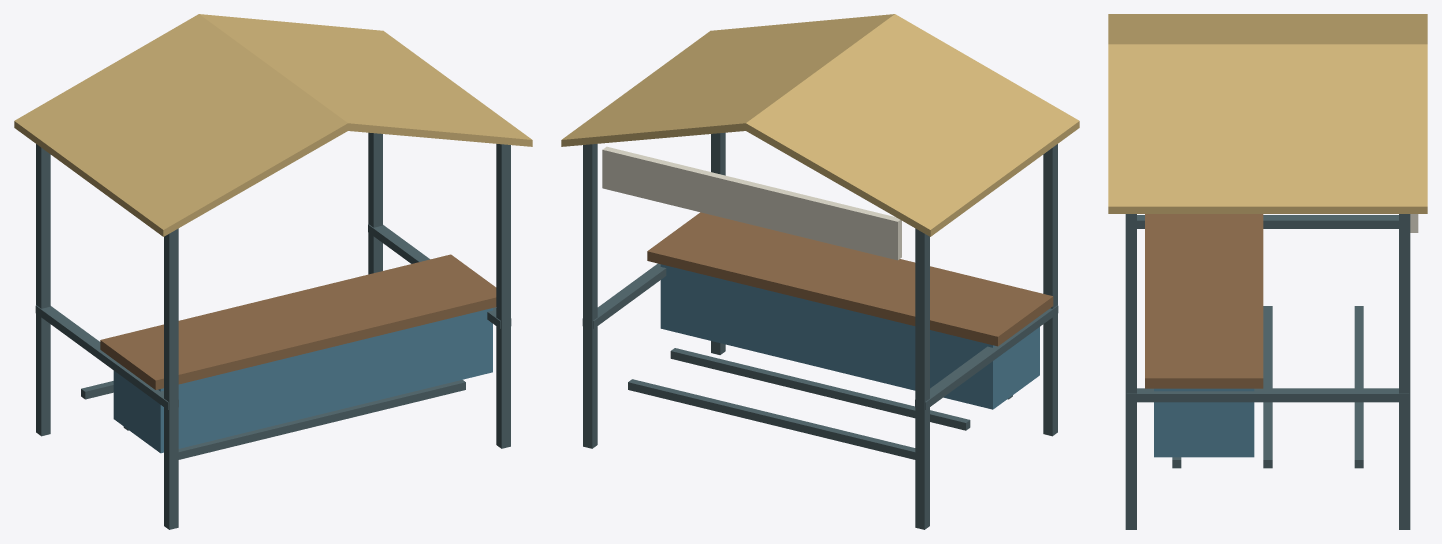
File: KOL_HBR_PROP_11.fbx
3 renders of one model, left to right at view 1: azimuth 30°, elevation 25°; view 2: azimuth 150°, elevation 25°; view 3: azimuth 270°, elevation 25°, orthographic. The views are drawn at different scales.
Visible parts, largest first — view 1: KOL_HBR_PROP_11__Model__Canvas, KOL_HBR_PROP_11__Model__Blue, KOL_HBR_PROP_11__Model__Timber, KOL_HBR_PROP_11__Model__DarkSteel; view 2: KOL_HBR_PROP_11__Model__Canvas, KOL_HBR_PROP_11__Model__DarkSteel, KOL_HBR_PROP_11__Model__Blue, KOL_HBR_PROP_11__Model__Timber, KOL_HBR_PROP_11__Model__White; view 3: KOL_HBR_PROP_11__Model__Canvas, KOL_HBR_PROP_11__Model__Timber, KOL_HBR_PROP_11__Model__DarkSteel, KOL_HBR_PROP_11__Model__Blue.
Boxes of the visible parts, x1,y1,x2,y2 form: KOL_HBR_PROP_11__Model__Canvas: (14,14,532,236); KOL_HBR_PROP_11__Model__Blue: (113,308,492,453); KOL_HBR_PROP_11__Model__Timber: (100,254,496,389); KOL_HBR_PROP_11__Model__DarkSteel: (35,132,511,529); KOL_HBR_PROP_11__Model__Canvas: (561,14,1079,236); KOL_HBR_PROP_11__Model__DarkSteel: (582,132,1058,529); KOL_HBR_PROP_11__Model__Blue: (660,264,1039,409); KOL_HBR_PROP_11__Model__Timber: (647,212,1053,346); KOL_HBR_PROP_11__Model__White: (602,146,901,260); KOL_HBR_PROP_11__Model__Canvas: (1108,14,1427,213); KOL_HBR_PROP_11__Model__Timber: (1145,214,1263,388); KOL_HBR_PROP_11__Model__DarkSteel: (1125,214,1410,529); KOL_HBR_PROP_11__Model__Blue: (1154,388,1254,457).
Bounding box in the file's own units: 10 × 9.6 × 7.
